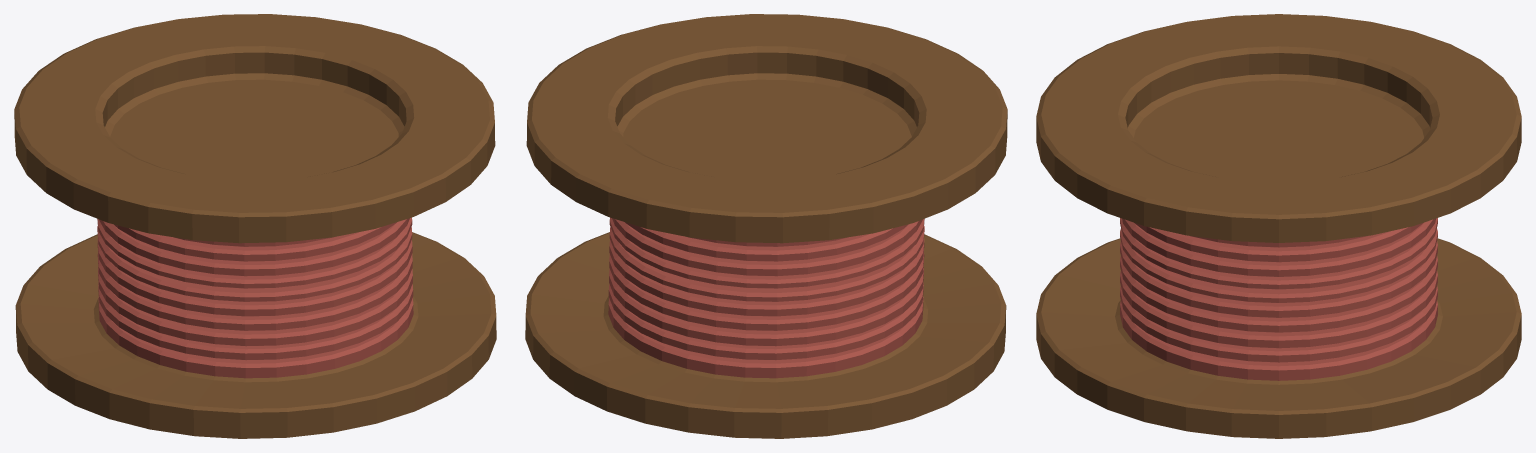
File: Spool.fbx
3 renders of one model, left to right at view 1: azimuth 30°, elevation 25°; view 2: azimuth 150°, elevation 25°; view 3: azimuth 270°, elevation 25°, orthographic.
Visible parts, largest first — view 1: Spool; view 2: Spool; view 3: Spool.
Boxes of the visible parts, left/top/right/bottom form: Spool: left=14, top=14, right=496, bottom=438; Spool: left=525, top=14, right=1007, bottom=438; Spool: left=1036, top=14, right=1521, bottom=438.
Bounding box in the file's own units: 658 × 342 × 655.
